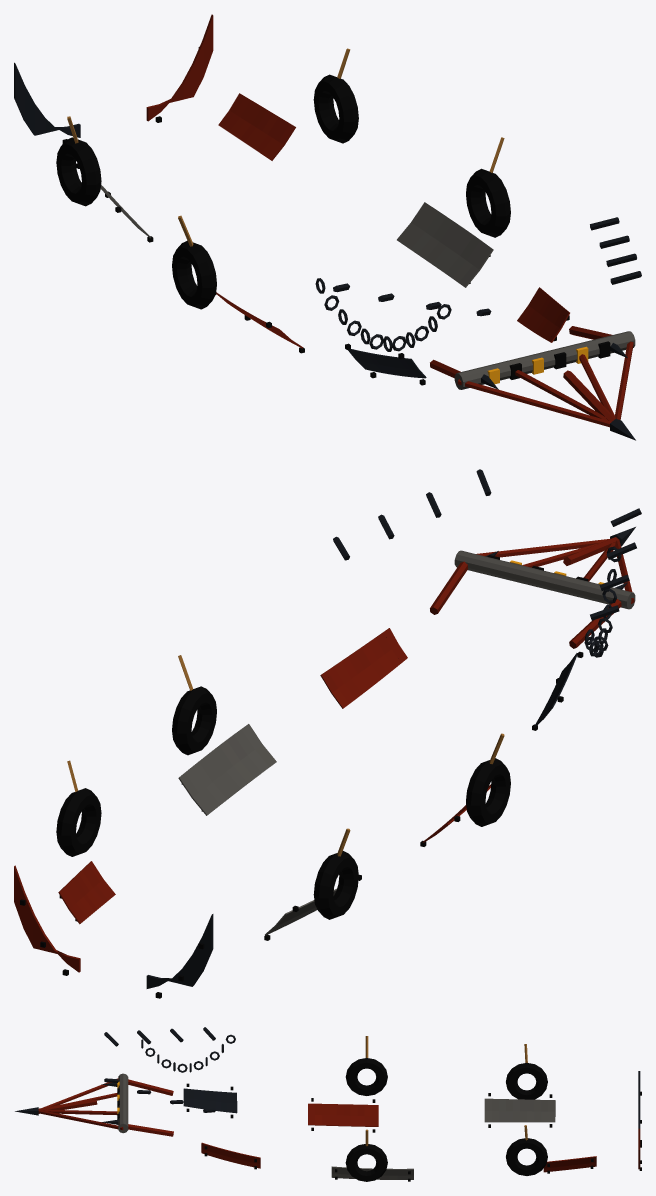
Rendered from tb_sloop_scrap.three-web-toon.glb.
3 renders of one model, top to bottom at view 1: azimuth 30°, elevation 25°; view 2: azimuth 150°, elevation 25°; view 3: azimuth 270°, elevation 25°, orthographic. The views are drawn at different scales.
Parts seen in each view (by area): view 1: tb_sloop_scrap_mesh; view 2: tb_sloop_scrap_mesh; view 3: tb_sloop_scrap_mesh.
Boxes of the visible parts, x1=… form: tb_sloop_scrap_mesh: x1=14, y1=14, x2=641, y2=440; tb_sloop_scrap_mesh: x1=14, y1=469, x2=641, y2=998; tb_sloop_scrap_mesh: x1=15, y1=1027, x2=641, y2=1181.
Size of the model in its own units: 3.84 by 1.93 by 10.69.
